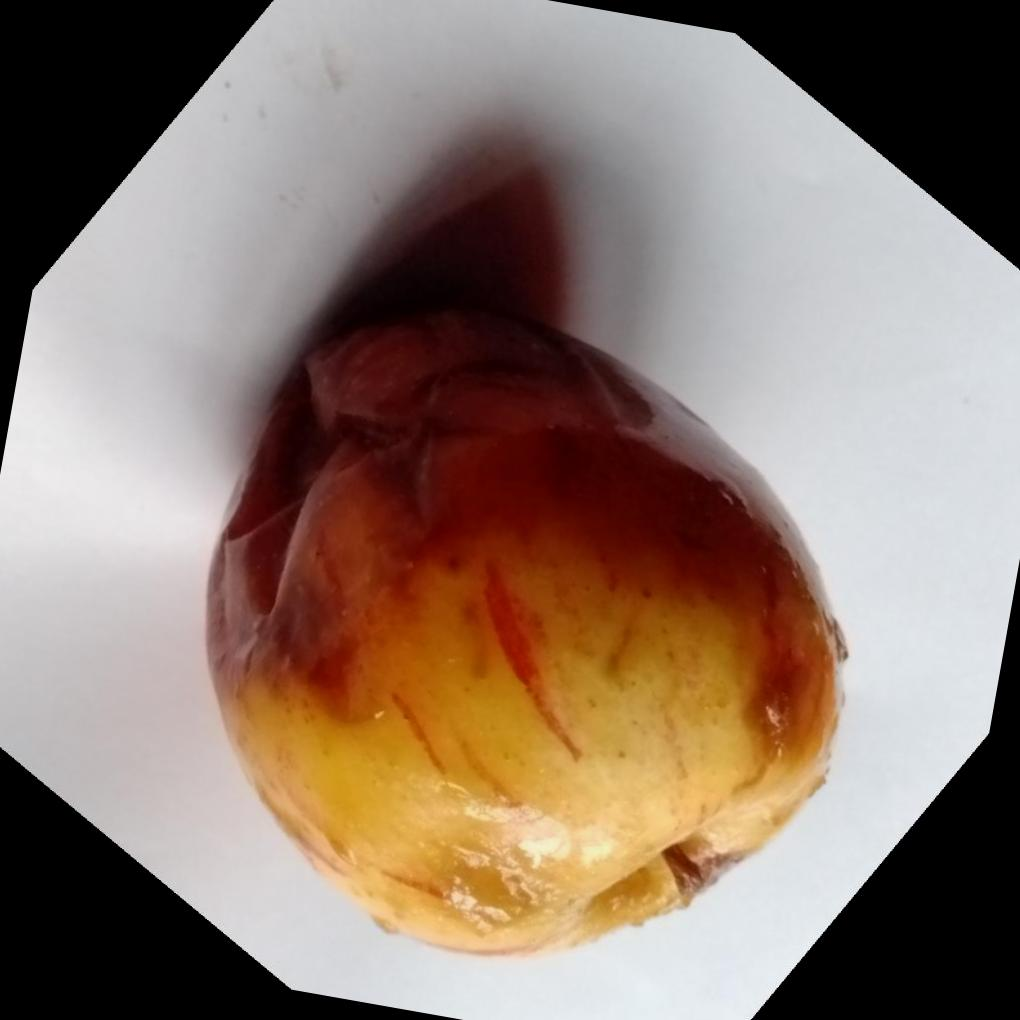FreshOrange: (203, 299, 845, 954)
